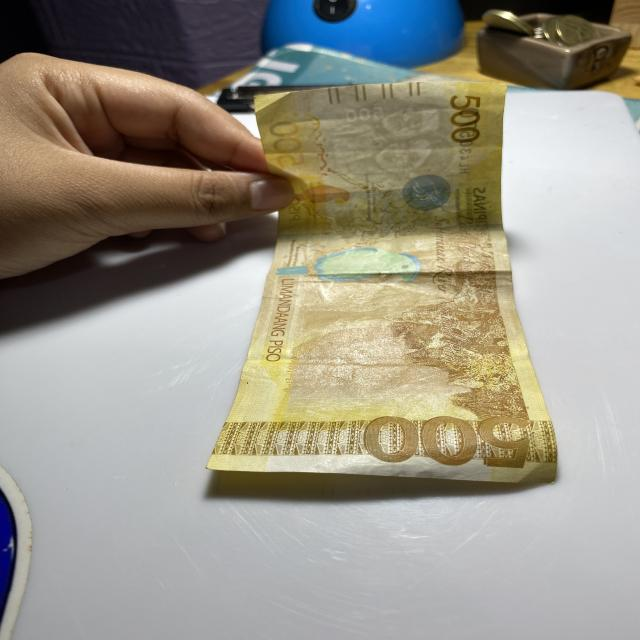500_big_parrot: (279, 244, 433, 285)
500_parrot_watermark: (288, 182, 358, 210)
value_watermark: (338, 105, 387, 123)
watermark: (315, 98, 450, 177)
